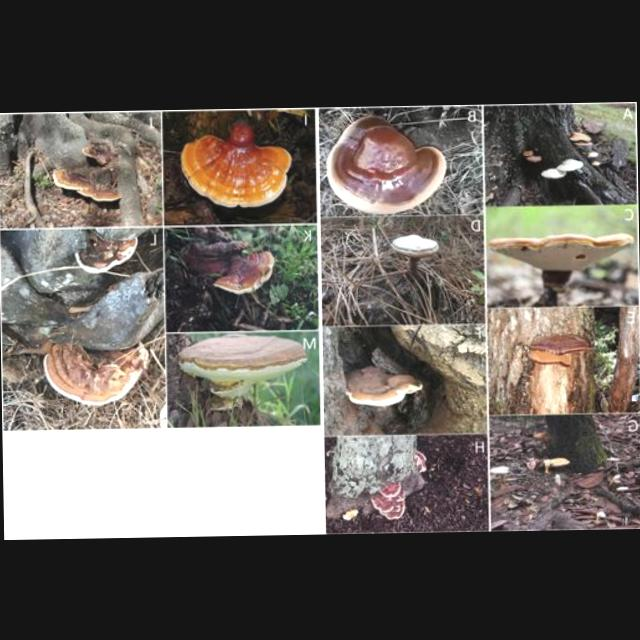ganoderma: (328, 115, 450, 218), (177, 112, 294, 212), (177, 333, 308, 392), (42, 343, 151, 408), (488, 232, 636, 274), (52, 142, 130, 202), (178, 226, 251, 276), (344, 364, 425, 408), (212, 247, 276, 295), (74, 236, 140, 275), (527, 333, 596, 368), (371, 480, 408, 522), (392, 231, 440, 258), (541, 157, 584, 179), (568, 129, 595, 146), (414, 451, 430, 475), (522, 150, 545, 163), (544, 458, 571, 469), (582, 149, 599, 158)
primordium: (343, 509, 360, 521), (492, 466, 511, 475), (595, 511, 608, 520), (607, 456, 623, 463), (616, 485, 630, 492), (612, 474, 624, 481), (591, 159, 602, 166)
